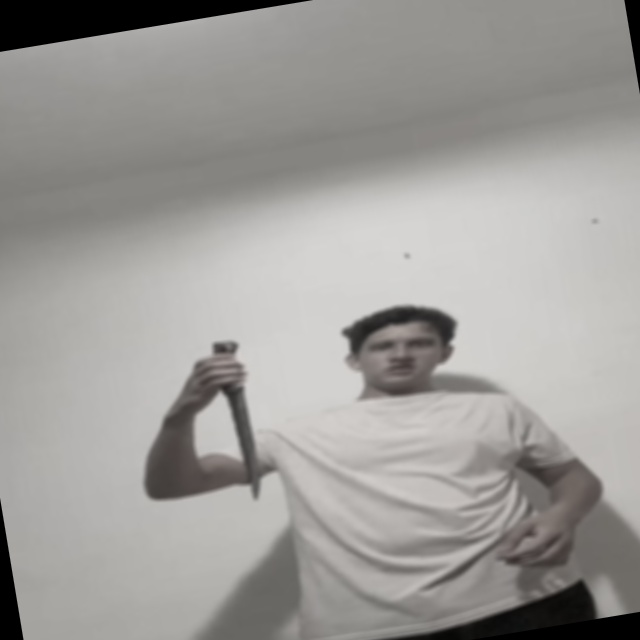Sharp-Object: (225, 386, 269, 503)
